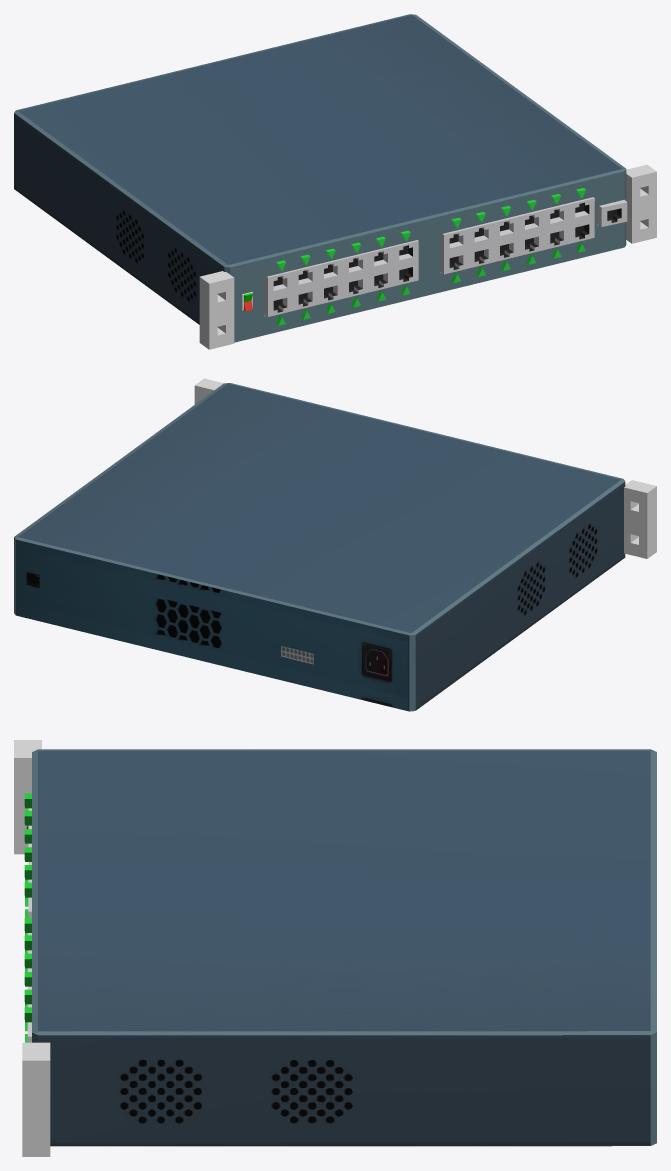
Rendered from Switch.fbx.
The picture shows the model from 3 angles, top to bottom: view 1: azimuth 30°, elevation 25°; view 2: azimuth 150°, elevation 25°; view 3: azimuth 270°, elevation 25°; orthographic projection. The views are drawn at different scales.
Parts seen in each view (by area): view 1: Outpust2, Outputs1, RouterBody, Router_EarTab_L, Router_EarTab_R, Input; view 2: Outpust2, Router_EarTab_L; view 3: Outpust2, Router_EarTab_R, Router_EarTab_L.
Part boxes in pixels (left/top/right/bottom): Outpust2: left=14, top=14, right=626, bottom=342; Outputs1: left=440, top=197, right=594, bottom=274; RouterBody: left=264, top=240, right=418, bottom=316; Router_EarTab_L: left=199, top=271, right=234, bottom=349; Router_EarTab_R: left=626, top=164, right=656, bottom=243; Input: left=597, top=199, right=627, bottom=226; Outpust2: left=14, top=383, right=625, bottom=711; Router_EarTab_L: left=624, top=480, right=656, bottom=558; Outpust2: left=32, top=749, right=656, bottom=1146; Router_EarTab_R: left=22, top=1042, right=50, bottom=1156; Router_EarTab_L: left=14, top=740, right=41, bottom=854.
Size of the model in its own units: 53.98 by 8.92 by 45.78.
33 materials, 3 textured.
